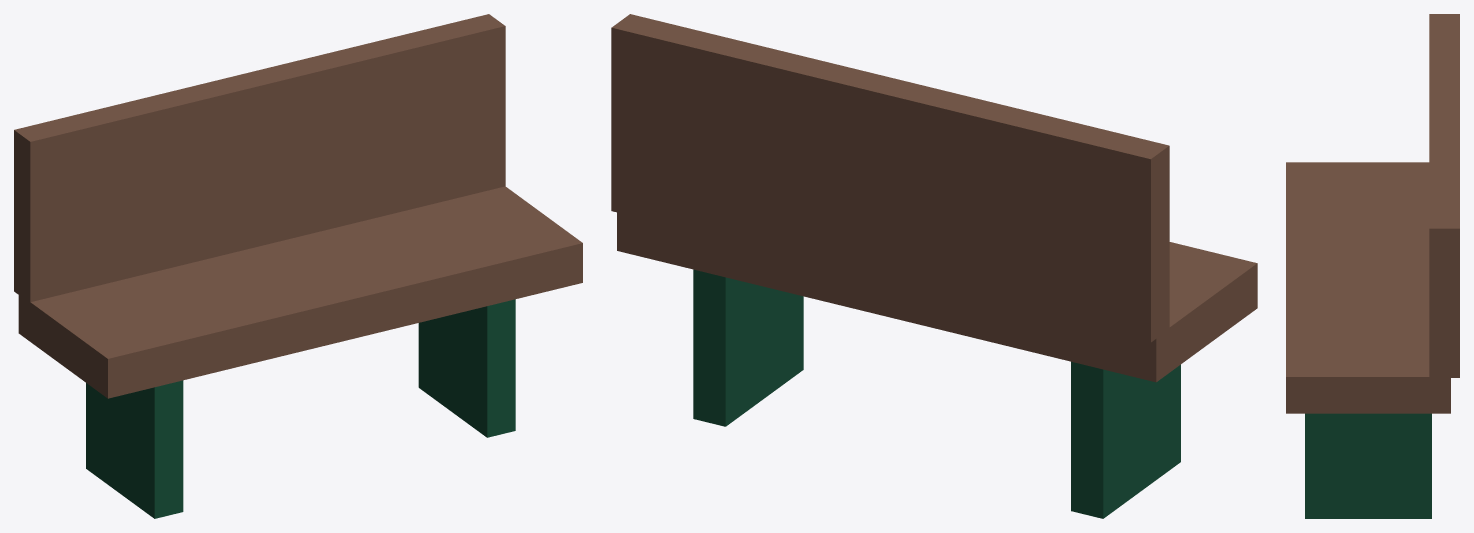
The model's file is bench.glb.
3 renders of one model, left to right at view 1: azimuth 30°, elevation 25°; view 2: azimuth 150°, elevation 25°; view 3: azimuth 270°, elevation 25°, orthographic. The views are drawn at different scales.
Parts seen in each view (by area): view 1: BenchMesh; view 2: BenchMesh; view 3: BenchMesh.
Boxes of the visible parts, left/top/right/bottom form: BenchMesh: left=14, top=14, right=582, bottom=518; BenchMesh: left=611, top=14, right=1257, bottom=518; BenchMesh: left=1286, top=14, right=1459, bottom=518.
Size of the model in its own units: 2 by 1.37 by 0.685.
Materials: 1 (1 with a texture image).
